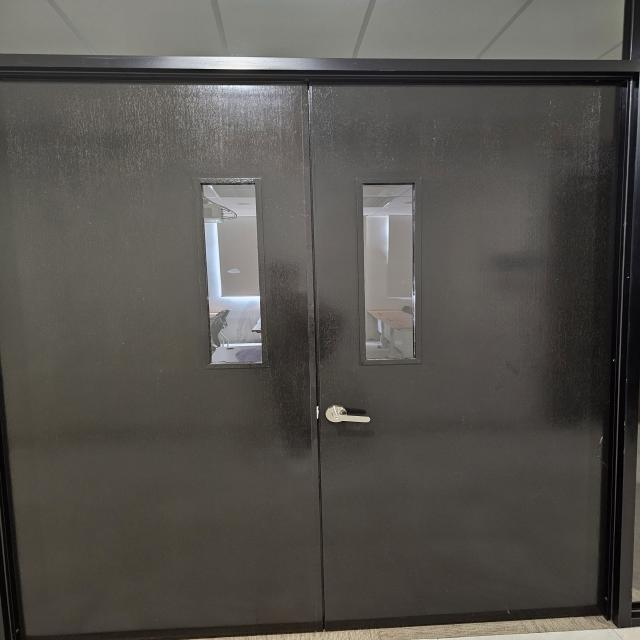door: (3, 64, 640, 636)
